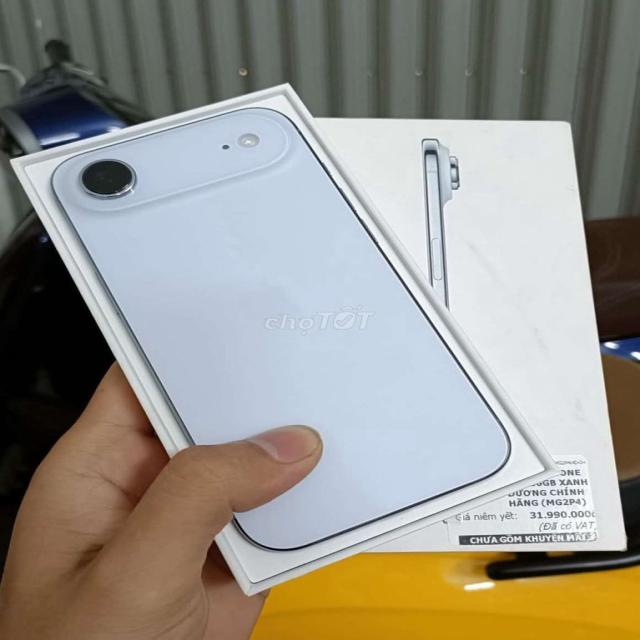gen_17: (18, 94, 516, 553)
